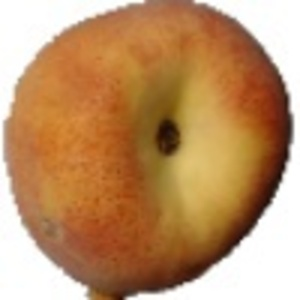pêssego: (2, 1, 295, 300)
